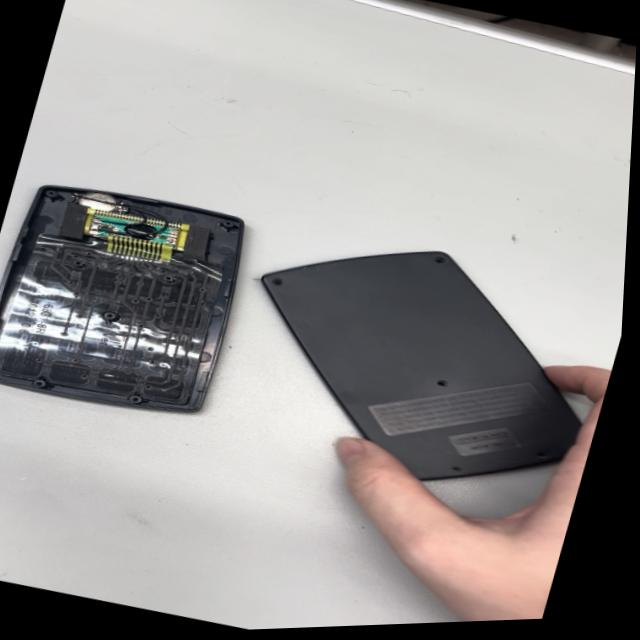back_cover: (209, 196, 629, 523)
front_panel: (0, 156, 265, 435)
